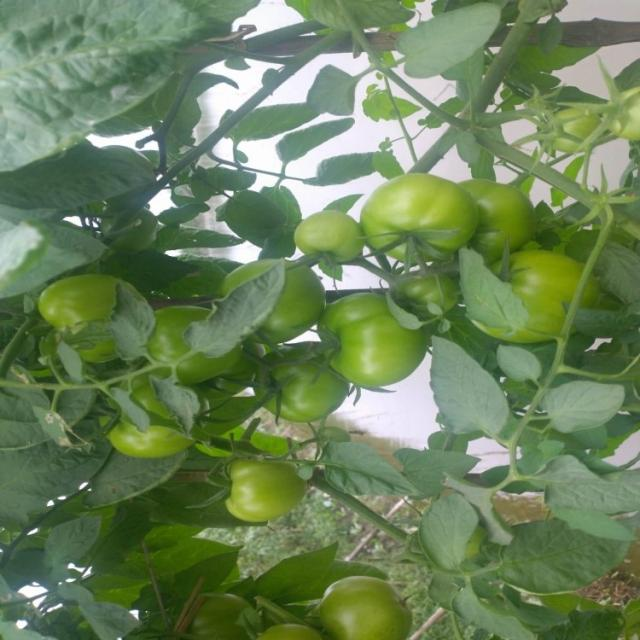tomato: (489, 244, 598, 351), (363, 167, 478, 267), (324, 295, 429, 384), (37, 273, 139, 363), (453, 167, 540, 264), (95, 377, 191, 460), (232, 256, 323, 343), (141, 292, 223, 384), (255, 348, 348, 424), (220, 451, 308, 526), (316, 571, 404, 640), (295, 203, 368, 264), (187, 585, 249, 640), (544, 94, 600, 154), (607, 82, 640, 147), (255, 612, 318, 640)
